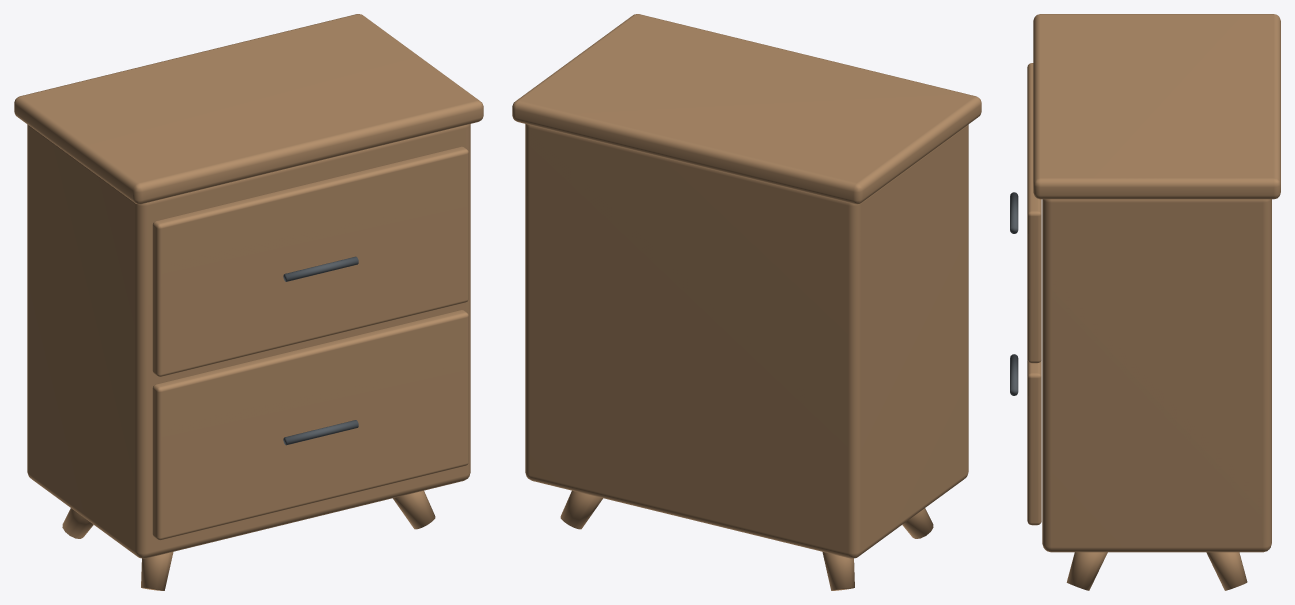
The model's file is atelier-shoe-cabinet.glb.
The picture shows the model from 3 angles, left to right: view 1: azimuth 30°, elevation 25°; view 2: azimuth 150°, elevation 25°; view 3: azimuth 270°, elevation 25°; orthographic projection.
Visible parts, largest first — view 1: legs.094, metal.038; view 2: legs.094; view 3: legs.094, metal.038.
Boxes of the visible parts, box(x1,y1,x2,y2) form: legs.094: box(14, 14, 483, 590); metal.038: box(283, 256, 358, 445); legs.094: box(512, 14, 981, 590); legs.094: box(1027, 14, 1280, 590); metal.038: box(1010, 192, 1018, 395).
Bounding box in the file's own units: 0.785 × 0.9293 × 0.5305.
